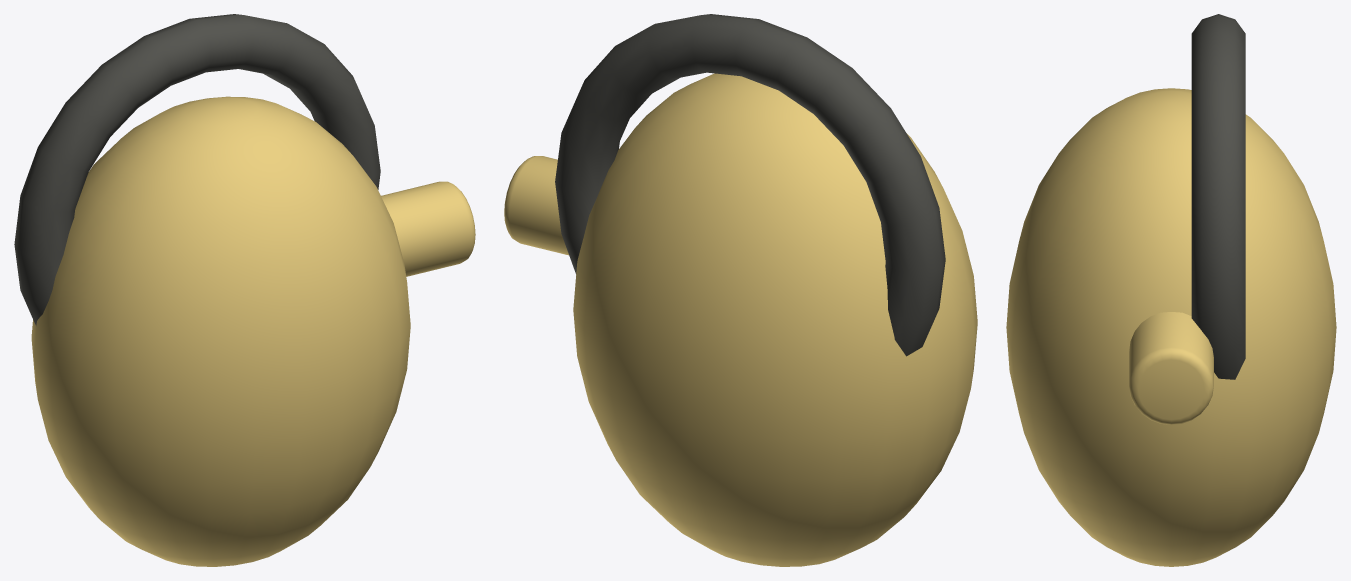
The model's file is kettle.glb.
3 renders of one model, left to right at view 1: azimuth 30°, elevation 25°; view 2: azimuth 150°, elevation 25°; view 3: azimuth 270°, elevation 25°, orthographic. The views are drawn at different scales.
Parts seen in each view (by area): view 1: body.007, handle.015, spout.001; view 2: body.007, handle.015, spout.001; view 3: body.007, handle.015, spout.001.
Part boxes in pixels (x1,y1,x2,y2): body.007: [31, 96, 410, 566]; handle.015: [14, 14, 380, 325]; spout.001: [381, 181, 475, 276]; body.007: [573, 73, 977, 566]; handle.015: [555, 14, 945, 356]; spout.001: [504, 156, 568, 255]; body.007: [1006, 88, 1336, 566]; handle.015: [1191, 14, 1245, 379]; spout.001: [1129, 312, 1213, 424].
Bounding box in the file's own units: 0.2448 × 0.2916 × 0.168.
